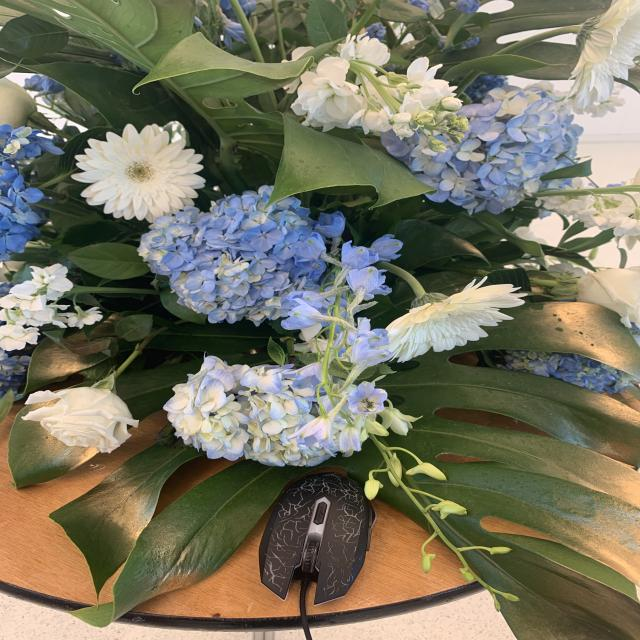Mouse: (221, 467, 390, 606)
